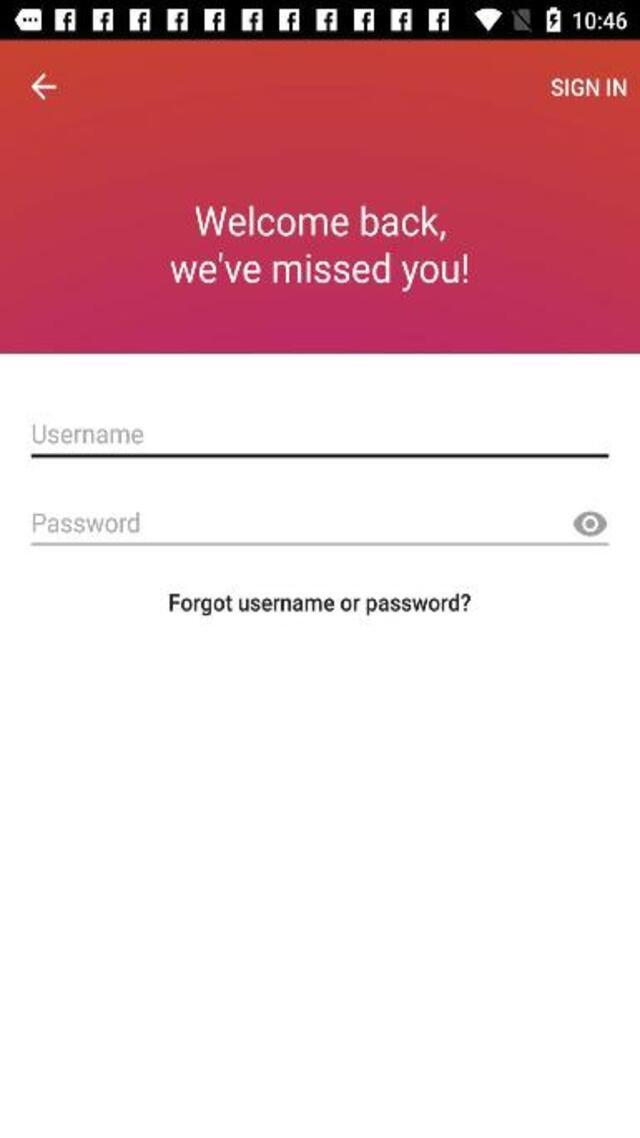CheckedTextView: (572, 510, 608, 536)
Icon: (29, 74, 56, 100)
Text: (166, 250, 478, 294), (193, 205, 451, 240), (165, 590, 470, 616), (34, 512, 140, 534), (33, 424, 144, 444), (550, 77, 626, 97)
